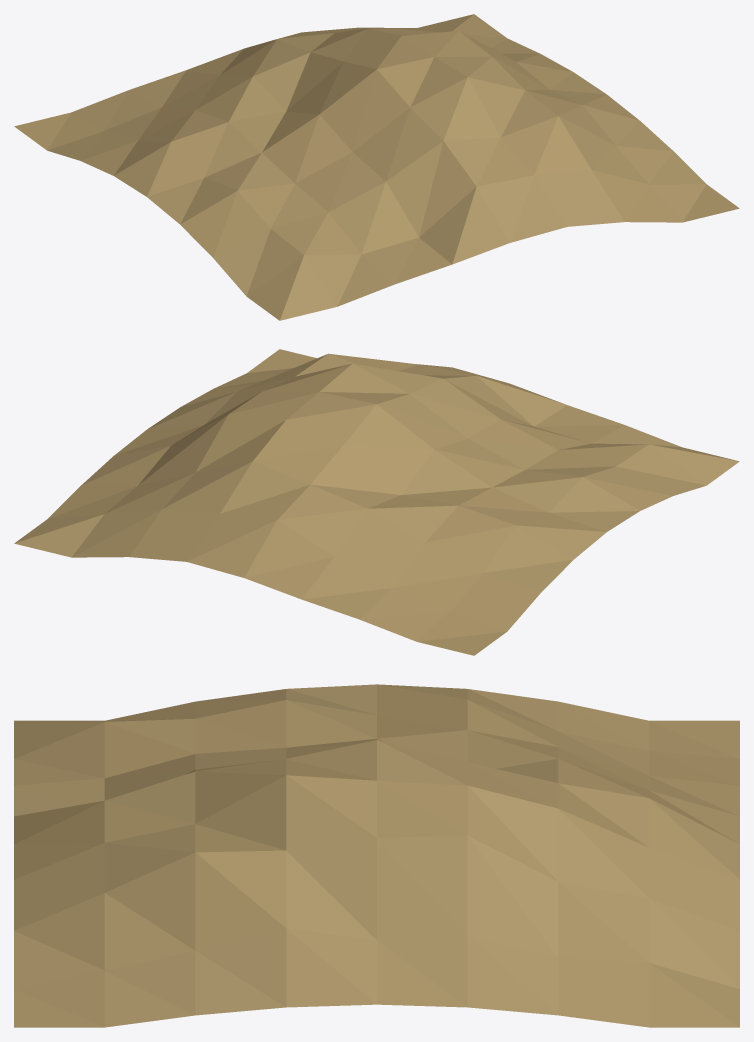
Rendered from landscape-dune.lod0.glb.
The picture shows the model from 3 angles, top to bottom: view 1: azimuth 30°, elevation 25°; view 2: azimuth 150°, elevation 25°; view 3: azimuth 270°, elevation 25°; orthographic projection. The views are drawn at different scales.
Visible parts, largest first — view 1: landscape-dune__body; view 2: landscape-dune__body; view 3: landscape-dune__body.
Part boxes in pixels (x1,y1,x2,y2): landscape-dune__body: (14,14,739,320); landscape-dune__body: (14,349,739,655); landscape-dune__body: (14,684,739,1027).
Size of the model in its own units: 8 by 1.67 by 8.
